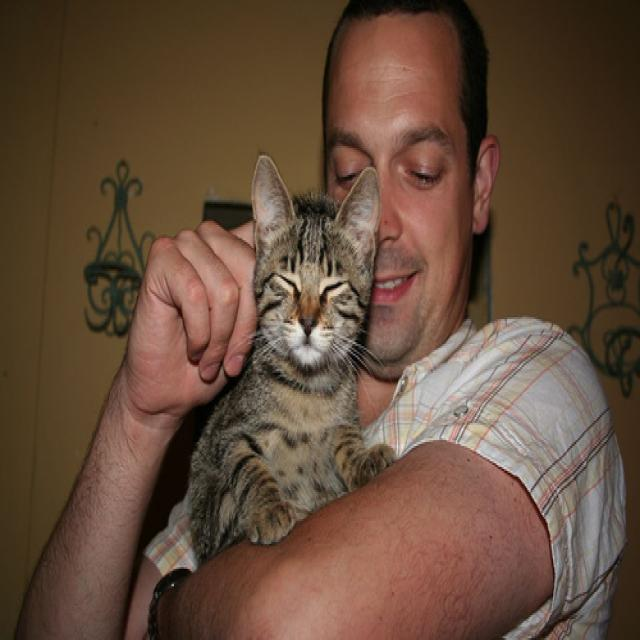cat: (185, 151, 398, 566)
